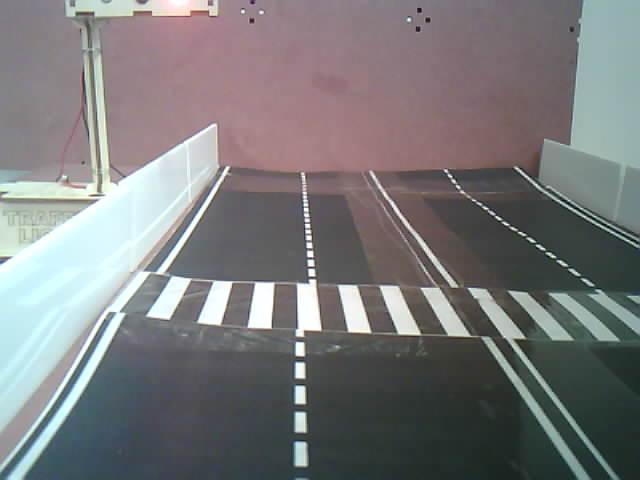crosswalk: (114, 255, 640, 368)
red: (83, 0, 225, 27)
